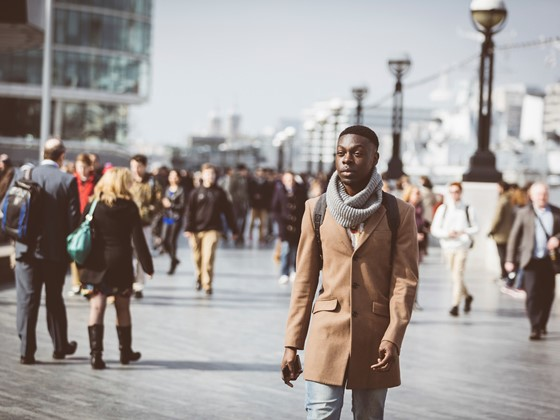person: (275, 121, 428, 420), (1, 132, 85, 370), (72, 160, 161, 374), (501, 177, 560, 348), (182, 157, 243, 305), (427, 175, 485, 323)
